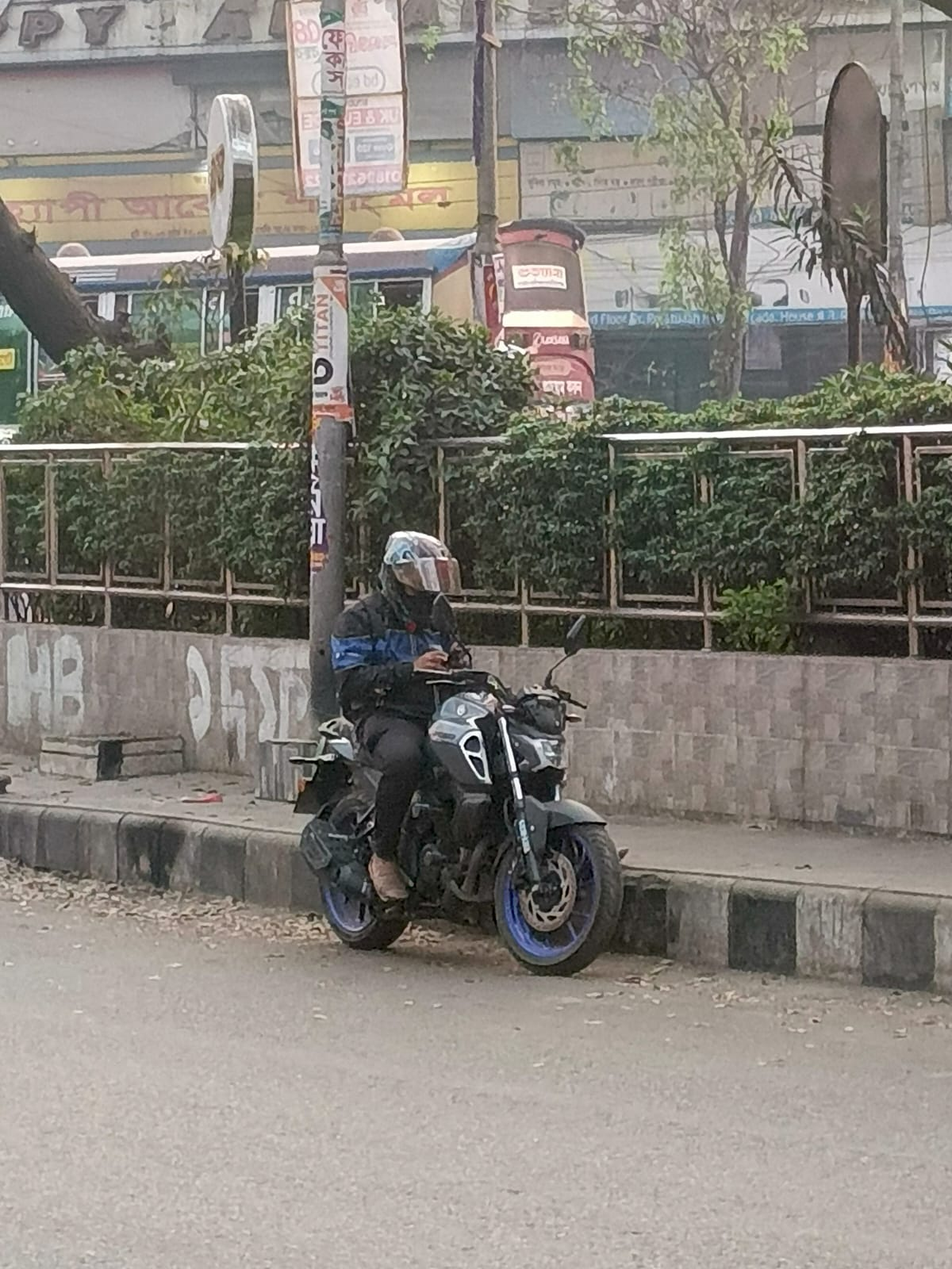Bikes: (270, 497, 629, 996)
